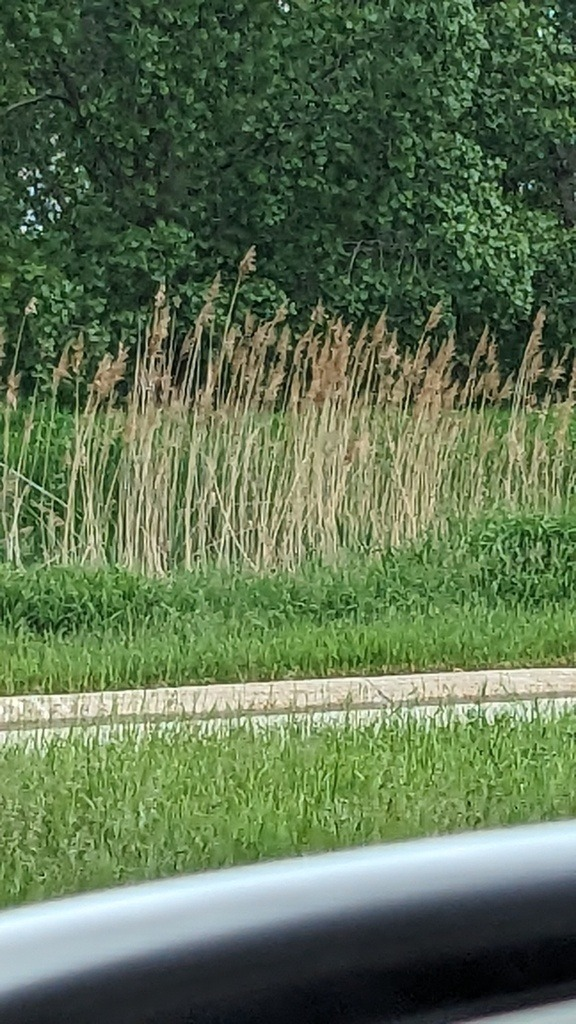common reed: (3, 246, 573, 574)
